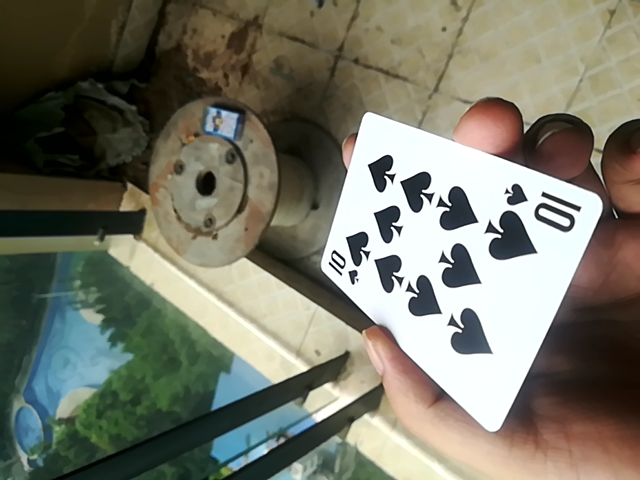ht 10: (316, 109, 601, 440)
